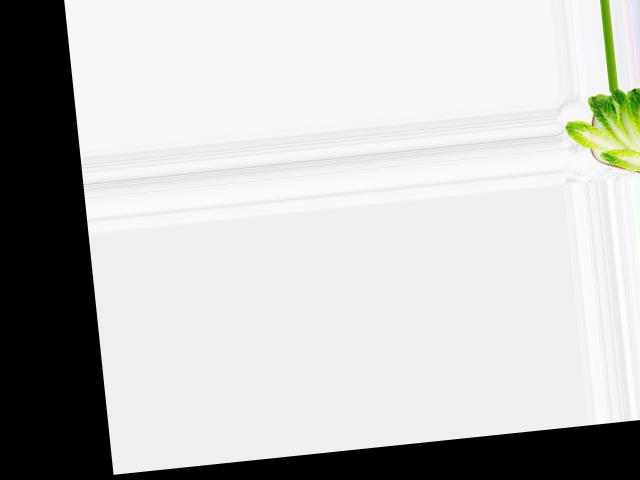lettuce: (559, 81, 640, 181)
